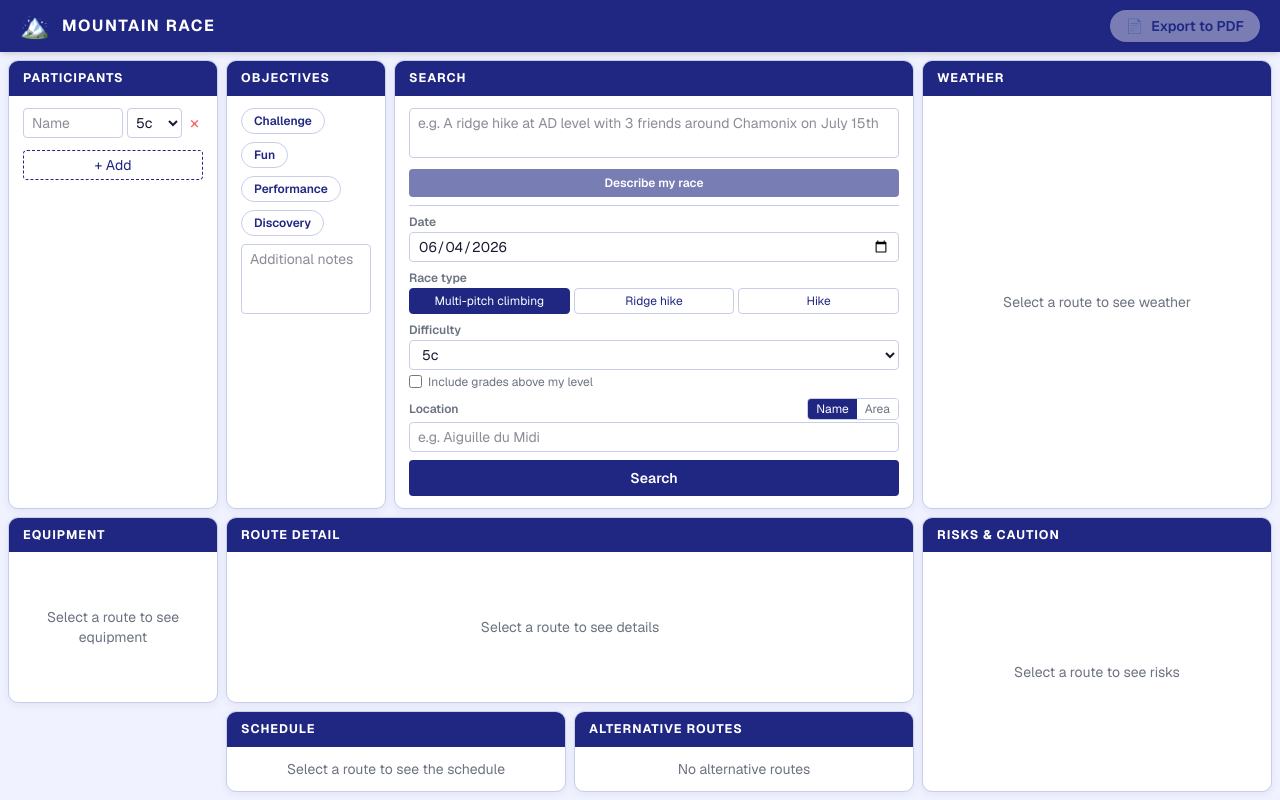
Test: User flow: search and select a route › full flow: select a route, detail and weather panels are populated
Type "Chamonix" into the field with placeholder "e.g. Aiguille du Midi". click: point(654, 437)
box: [409,422,899,452]
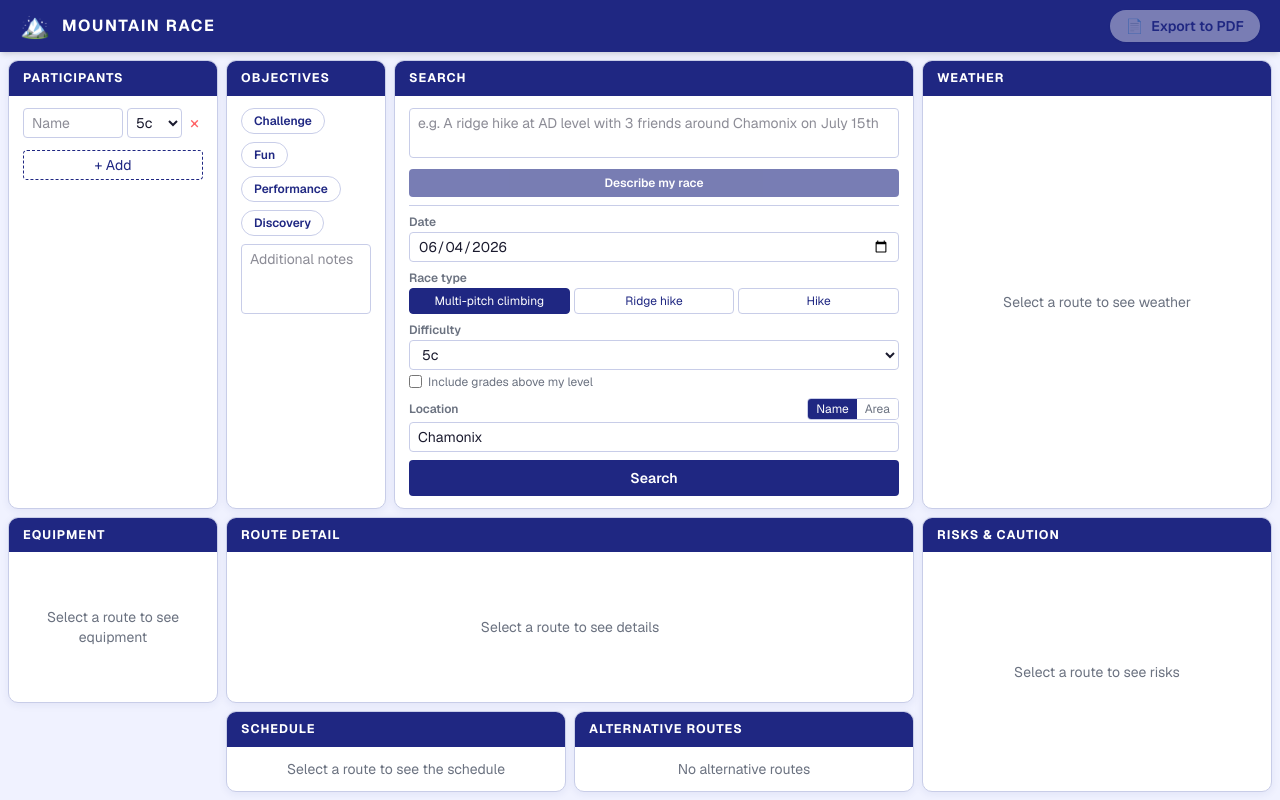
Click the button "Search". click: point(654, 478)
box: [409,460,899,496]
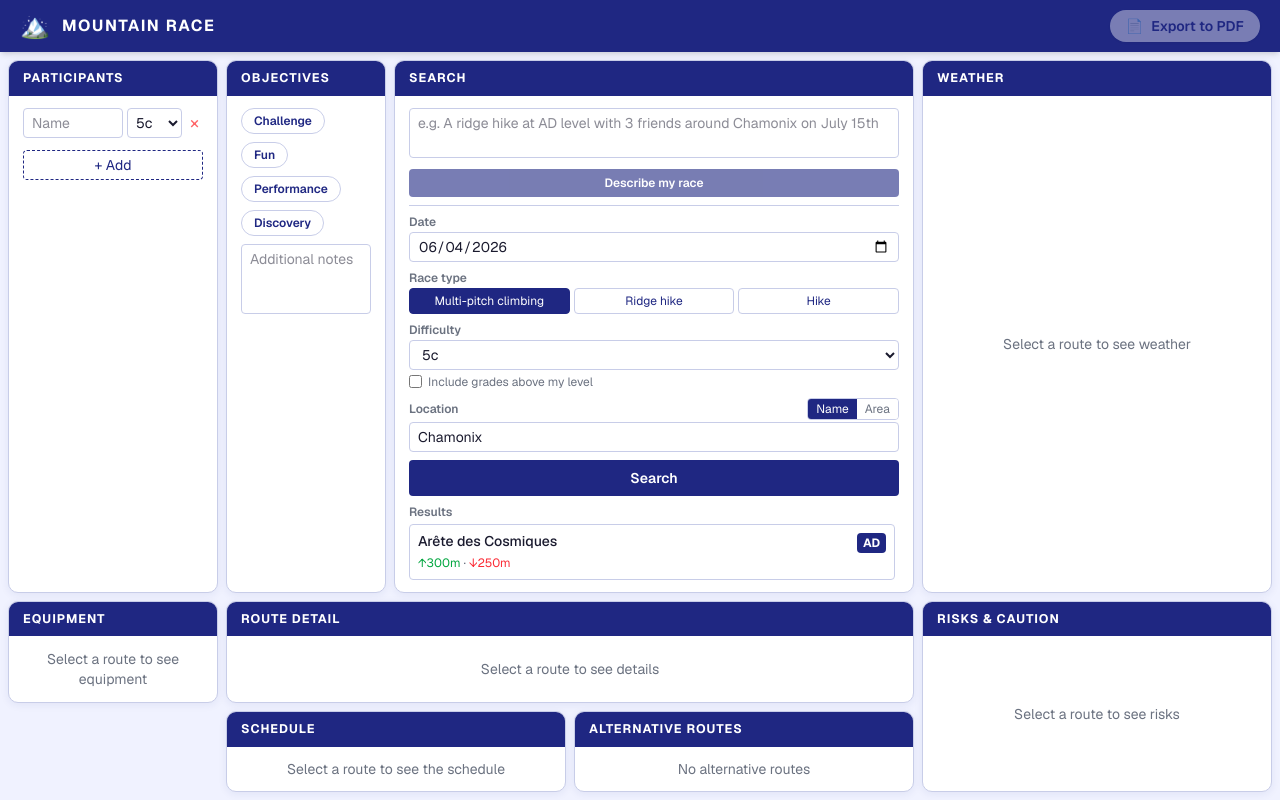
Result: the text "Arête des Cosmiques" is shown
Select the result
Click the text "Arête des Cosmiques". click: point(488, 541)
box: [418,532,557,550]
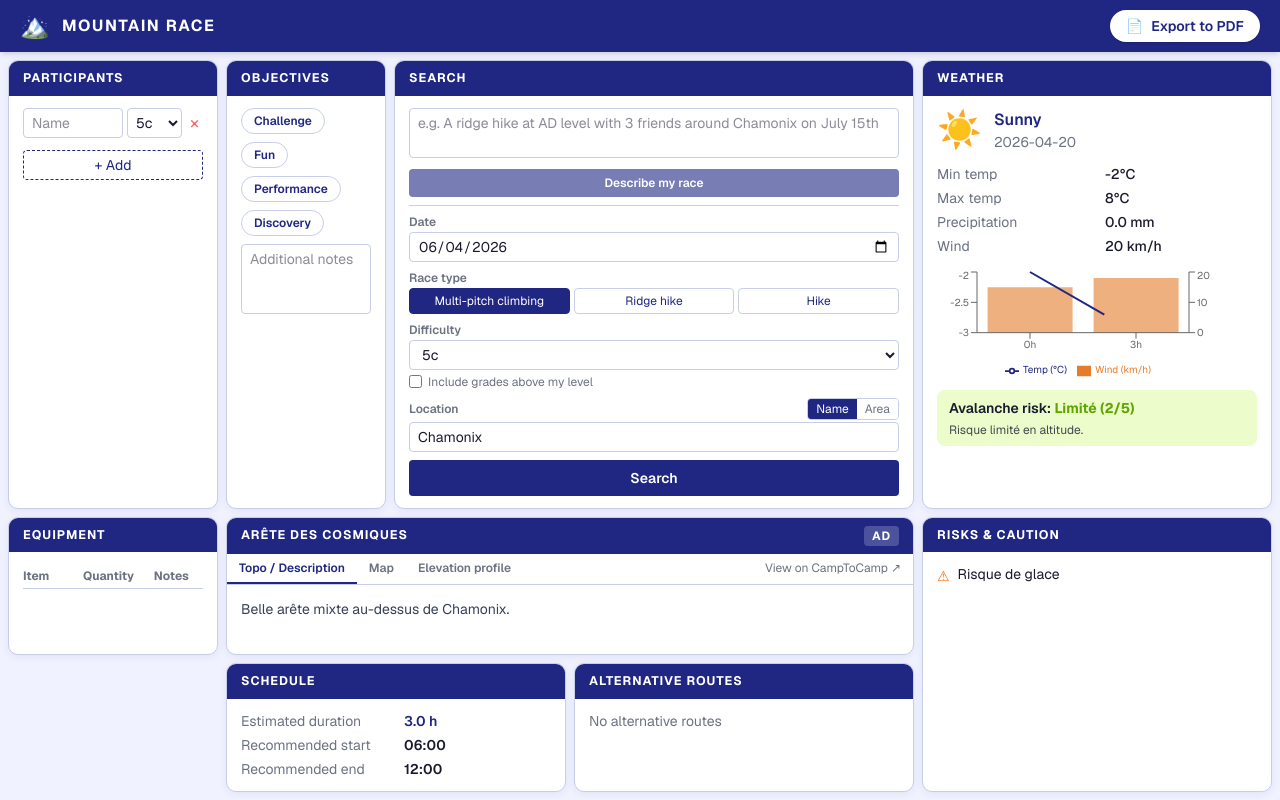
Result: the text "Belle arête mixte au-dessus de Chamonix." is shown at [241,600,509,618]
Result: the text "-2°C" is shown at [1105,165,1135,183]
Result: the text "8°C" is shown at [1105,189,1130,207]
